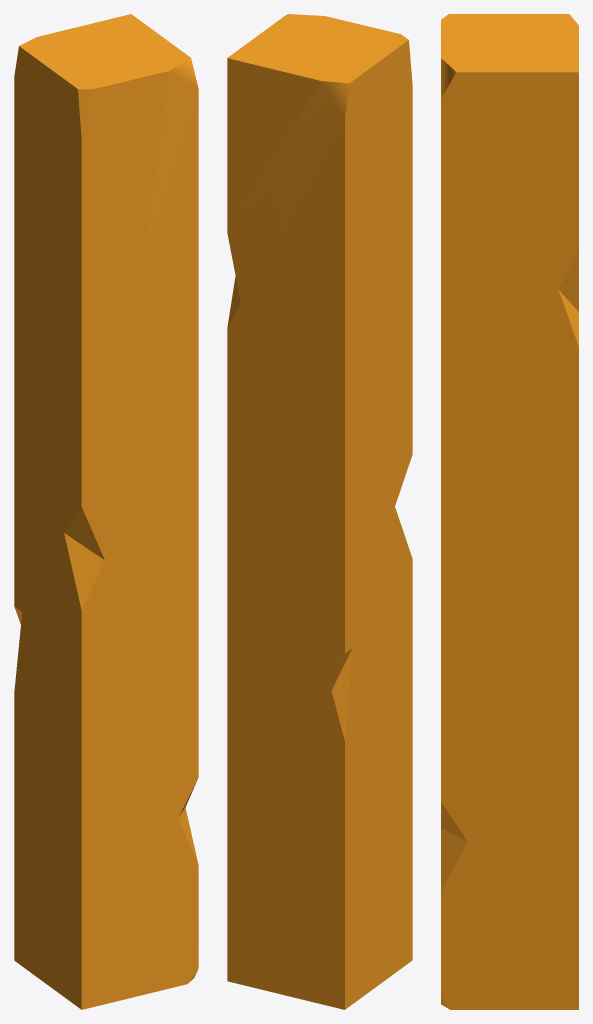
Rendered from SM_Buildings_Column_2x3_01P.fbx.
The picture shows the model from 3 angles, left to right: view 1: azimuth 30°, elevation 25°; view 2: azimuth 150°, elevation 25°; view 3: azimuth 270°, elevation 25°; orthographic projection. The views are drawn at different scales.
Parts seen in each view (by area): view 1: SM_Buildings_Column_2x3_01P; view 2: SM_Buildings_Column_2x3_01P; view 3: SM_Buildings_Column_2x3_01P.
Part boxes in pixels (x1,y1,x2,y2): SM_Buildings_Column_2x3_01P: [14, 14, 198, 1009]; SM_Buildings_Column_2x3_01P: [227, 14, 412, 1009]; SM_Buildings_Column_2x3_01P: [441, 14, 578, 1009].
Size of the model in its own units: 40 by 300 by 40.
